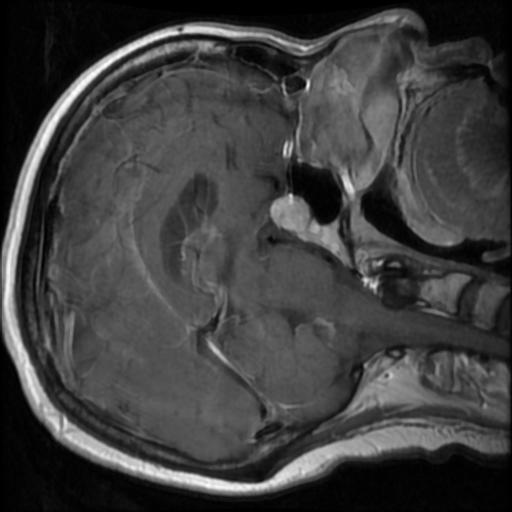pituitary tumour: (270, 193, 310, 232)
